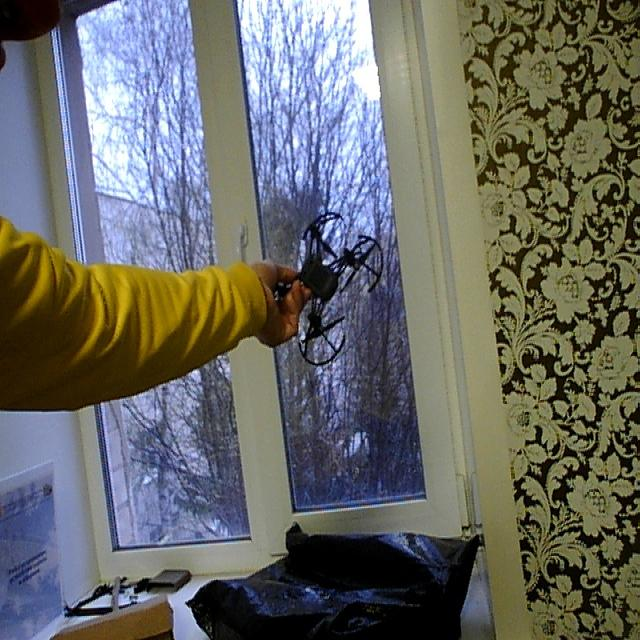drone: (248, 211, 384, 377)
